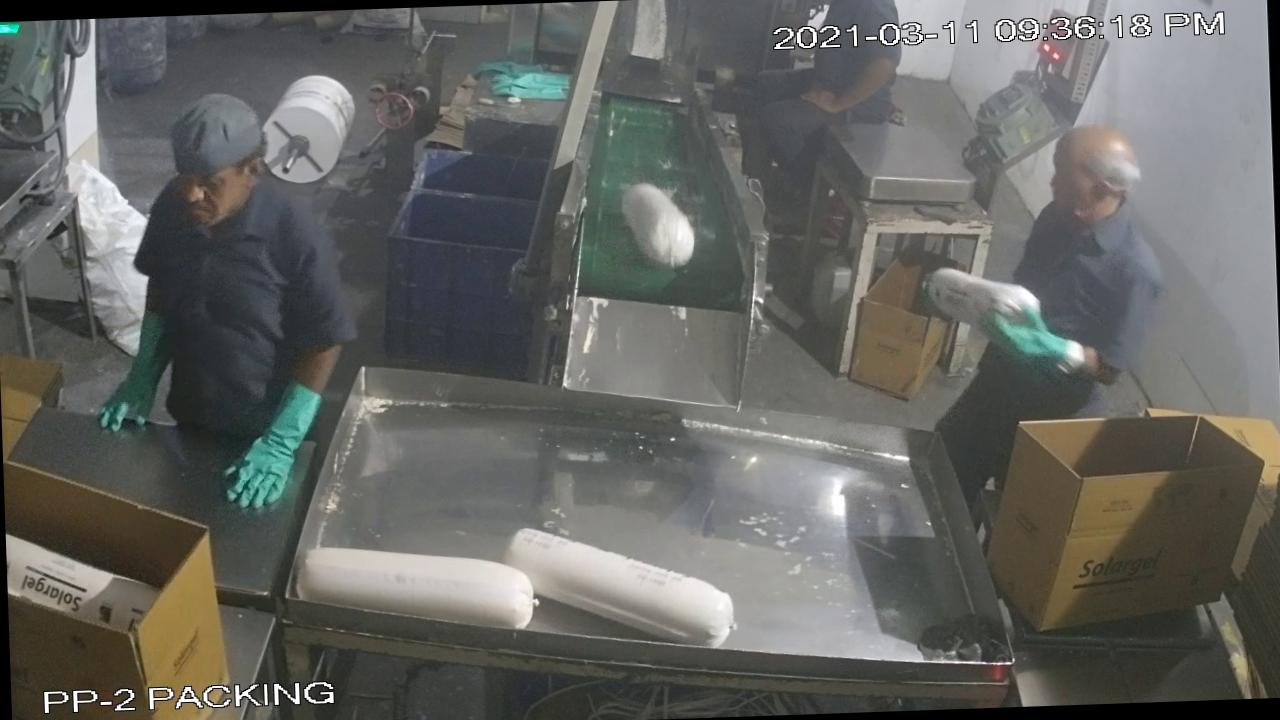Gloves: (210, 371, 328, 529), (80, 301, 186, 443), (983, 293, 1096, 381)
No-gloves: (796, 50, 902, 126)
